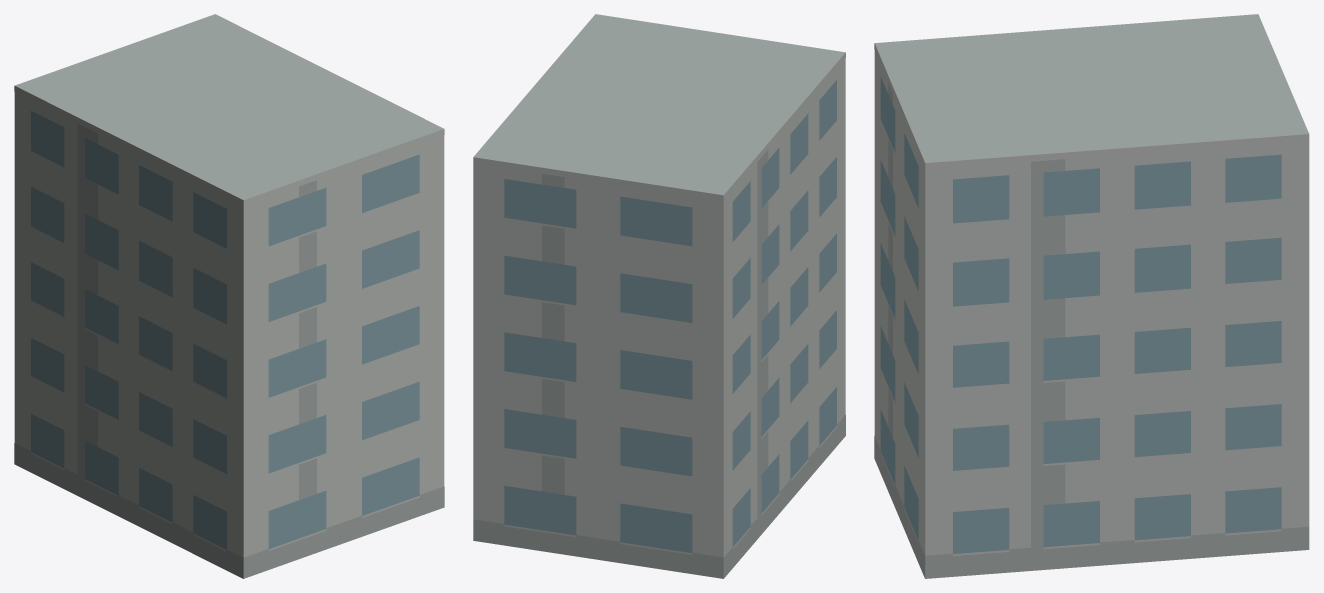
File: residential-10671c94-b927-4cd4-9df8-dbf3e0d4e3a4.glb
3 views of the same model, side by side, from view 1: azimuth 30°, elevation 25°; view 2: azimuth 150°, elevation 25°; view 3: azimuth 270°, elevation 25° (orthographic). The views are drawn at different scales.
Parts seen in each view (by area): view 1: residential-10671c94-b927-4cd4-9df8-dbf3e0d4e3a4.tmp; view 2: residential-10671c94-b927-4cd4-9df8-dbf3e0d4e3a4.tmp; view 3: residential-10671c94-b927-4cd4-9df8-dbf3e0d4e3a4.tmp.
Part boxes in pixels (x1,y1,x2,y2): residential-10671c94-b927-4cd4-9df8-dbf3e0d4e3a4.tmp: [14, 14, 444, 578]; residential-10671c94-b927-4cd4-9df8-dbf3e0d4e3a4.tmp: [473, 14, 845, 578]; residential-10671c94-b927-4cd4-9df8-dbf3e0d4e3a4.tmp: [874, 14, 1309, 578].
Bounding box in the file's own units: 11.74 × 15.25 × 14.46.
